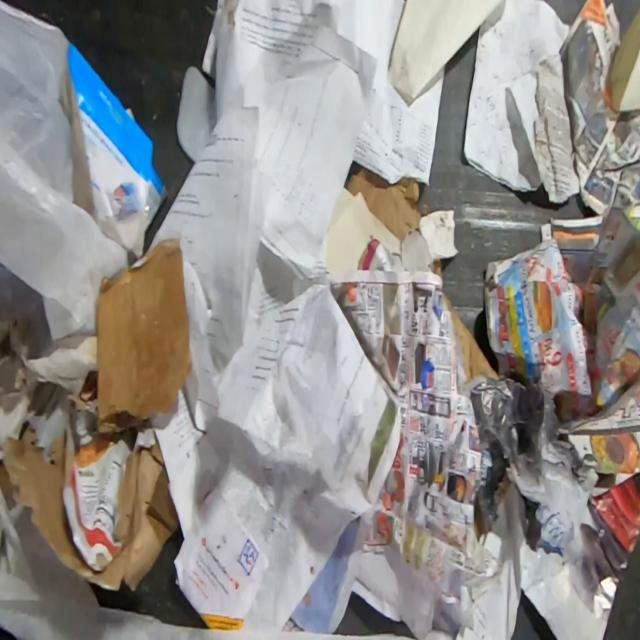cardboard: (0, 422, 180, 594), (68, 42, 171, 250), (96, 236, 193, 435), (345, 167, 423, 243), (442, 292, 499, 384), (609, 5, 640, 114)
soft_plastic: (0, 0, 128, 342), (103, 178, 151, 260)
